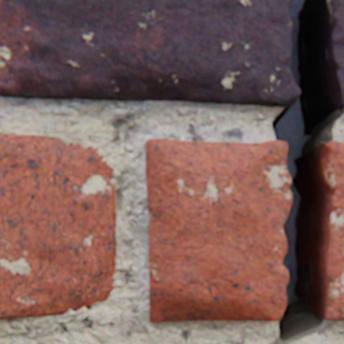brick: (0, 135, 116, 318)
broken_brick: (0, 0, 300, 107), (146, 140, 292, 322), (323, 142, 343, 320), (331, 0, 343, 107)
crack: (270, 0, 343, 343)
